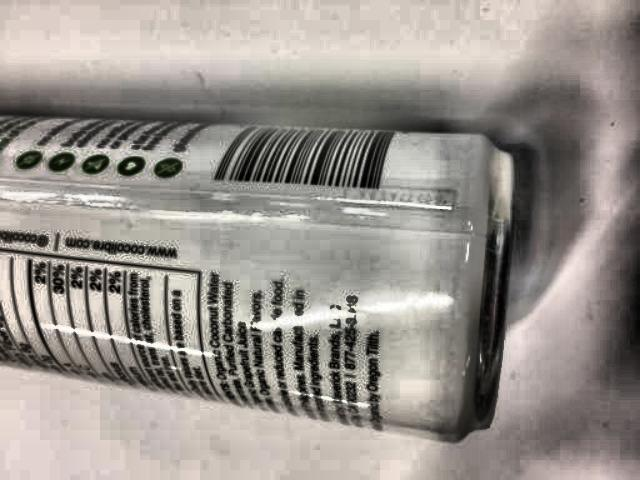Plastic: (0, 140, 580, 474)
